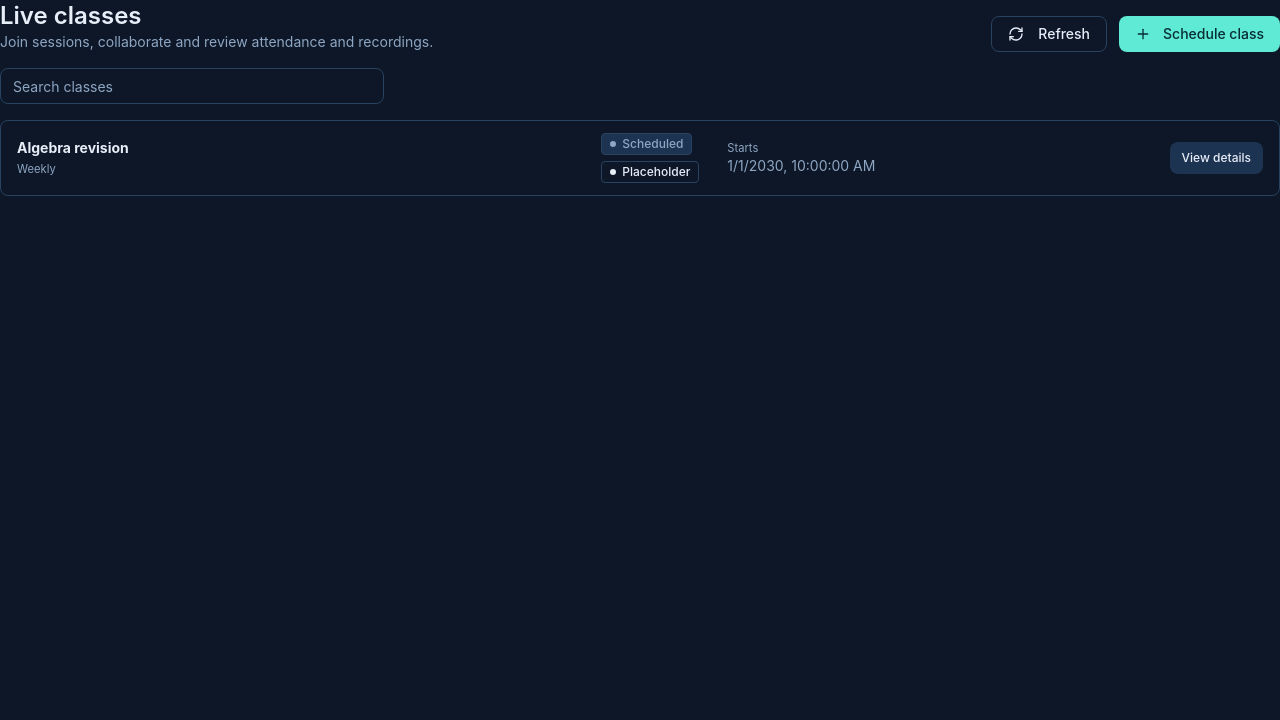
Test: LiveClassesPage › starts each new class with no course chosen, even after a previous one
Click the button "Schedule class": click(1200, 34) [1119,16,1279,52]
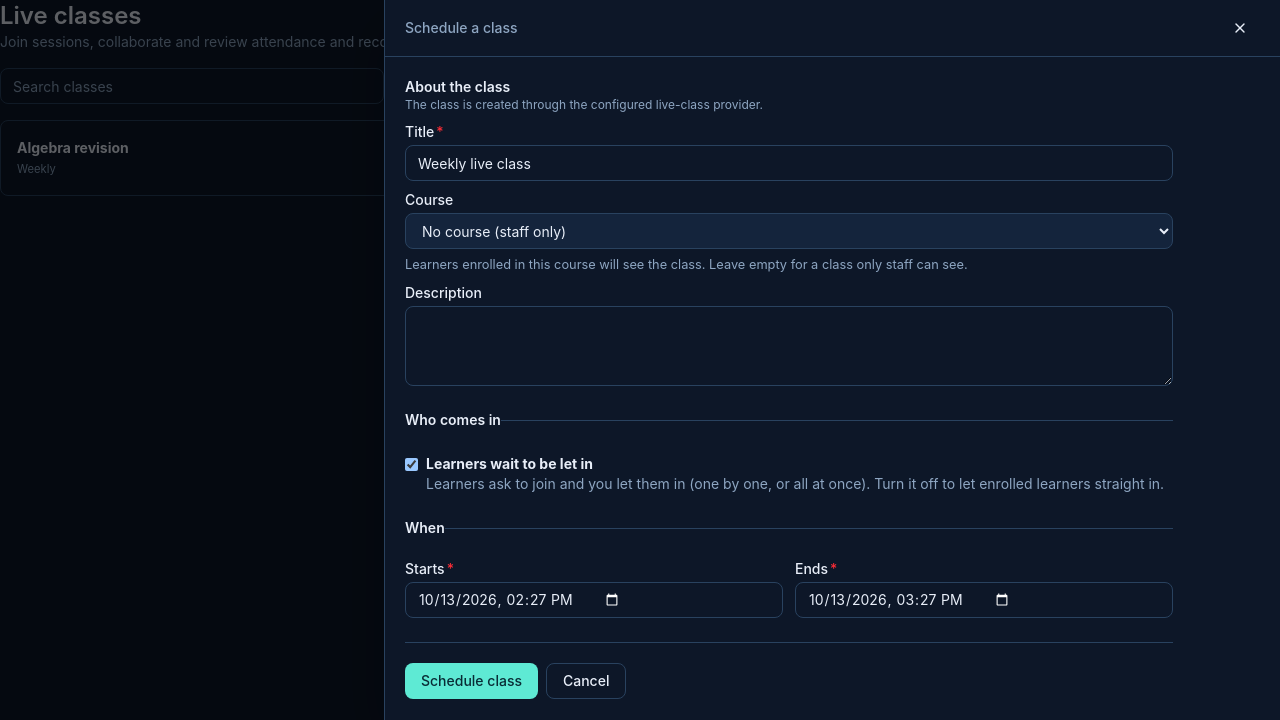
Select "MATH-1 · Algebra" in the dropdown labelled "Course": (789, 231) [405,213,1173,249]
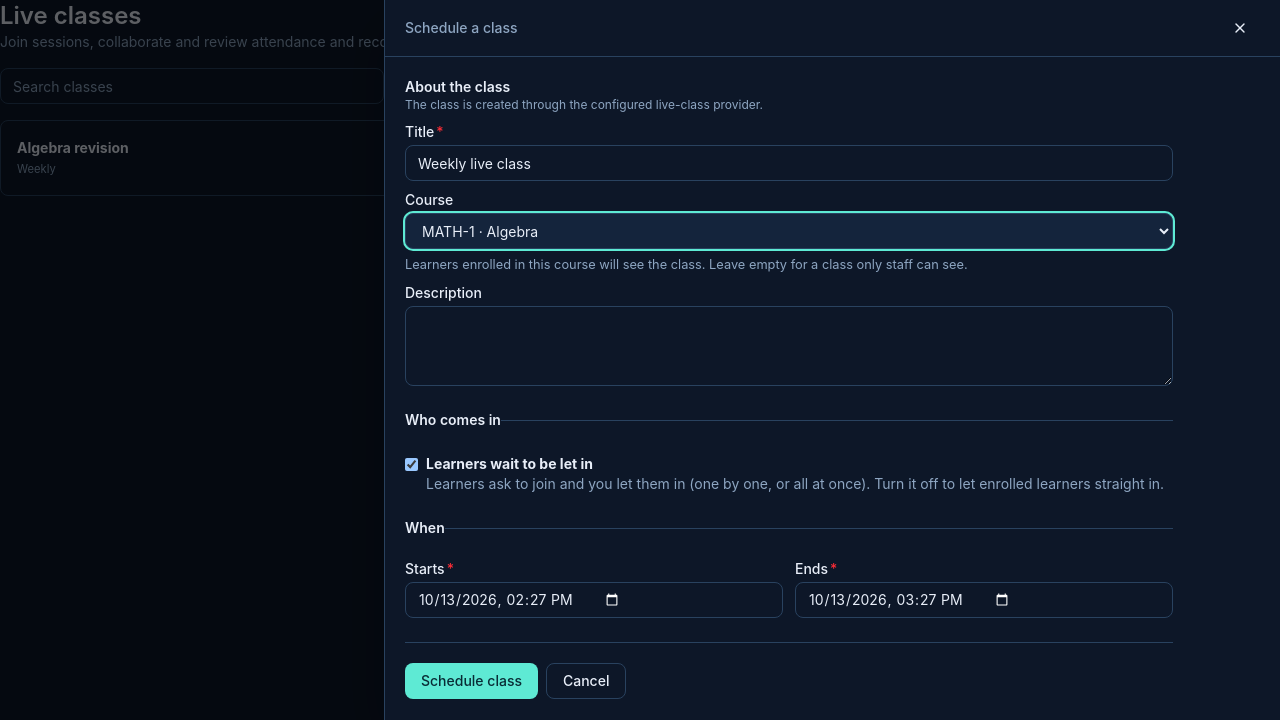
Click the button "Cancel": click(586, 681) [546,663,626,699]
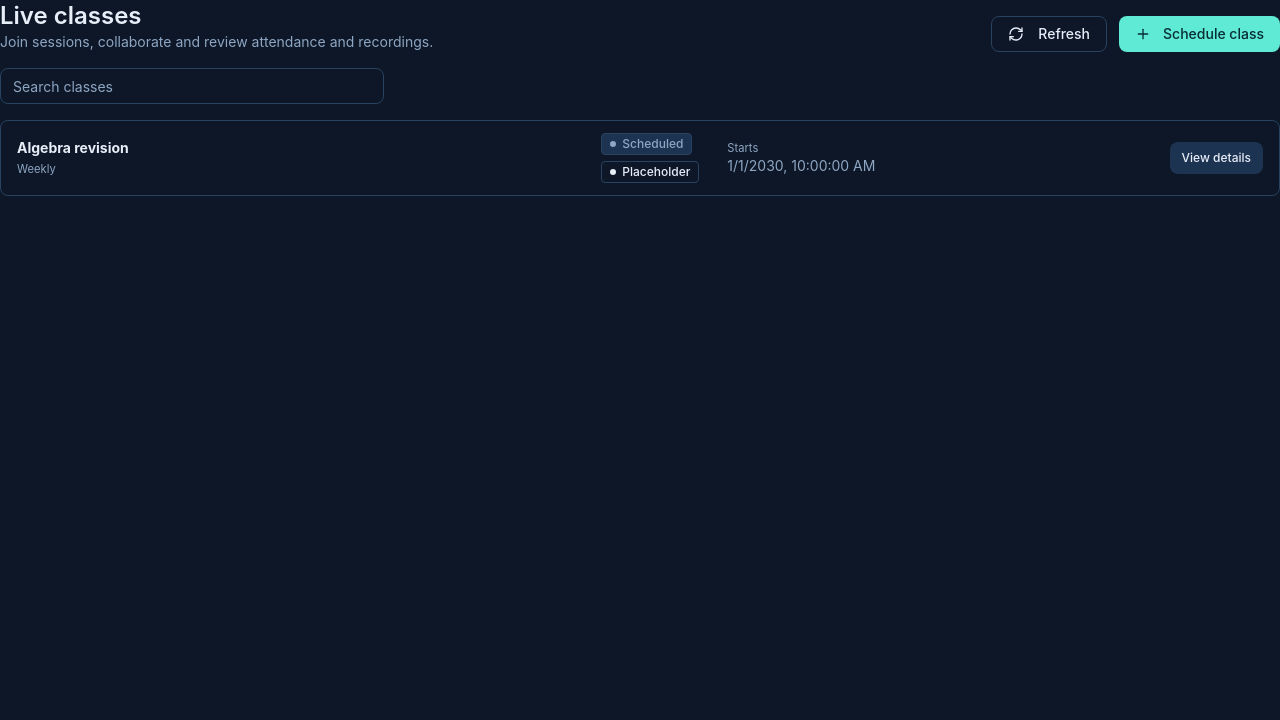
Click the button "Schedule class": click(1200, 34) [1119,16,1279,52]
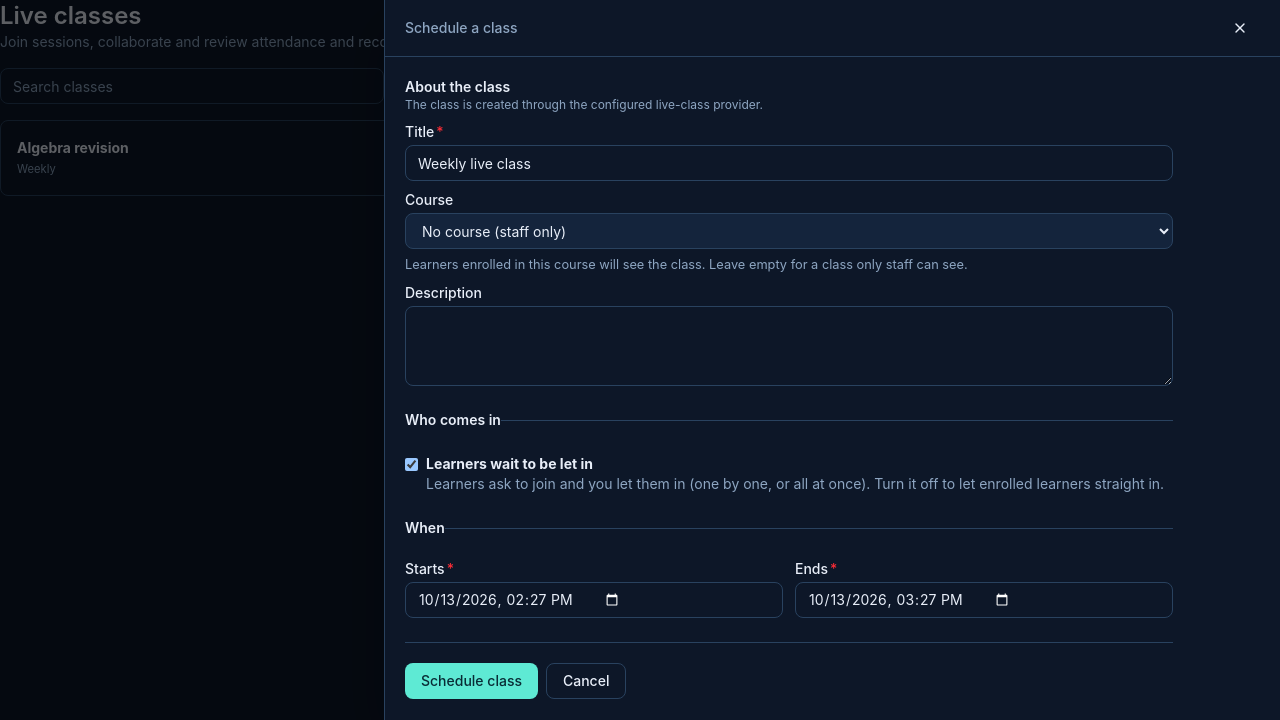
Check: the dropdown labelled "Course" shows "No course (staff only)", box [405,213,1173,249]
